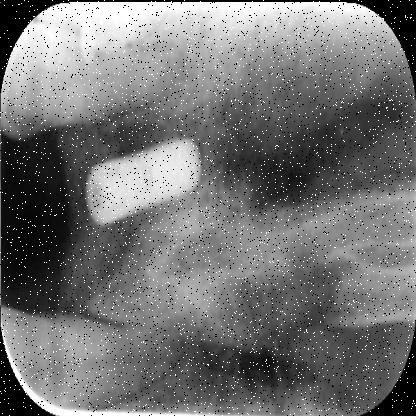ITI: (83, 129, 205, 231)
